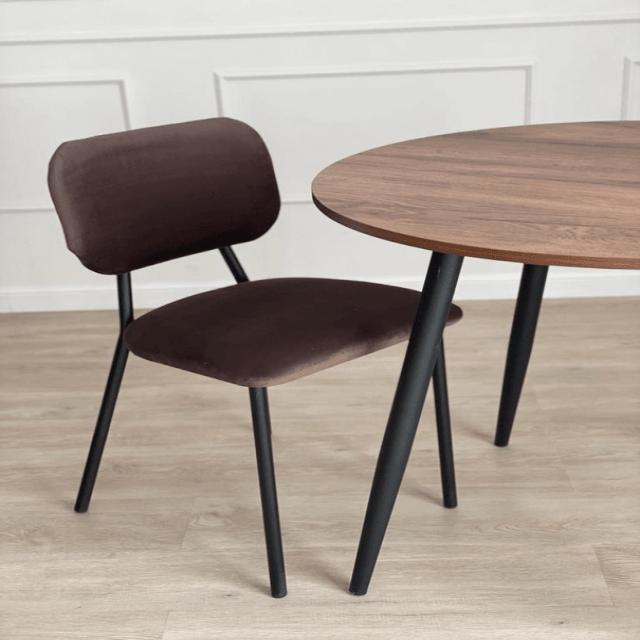chair: (41, 109, 464, 597), (21, 117, 468, 406)
